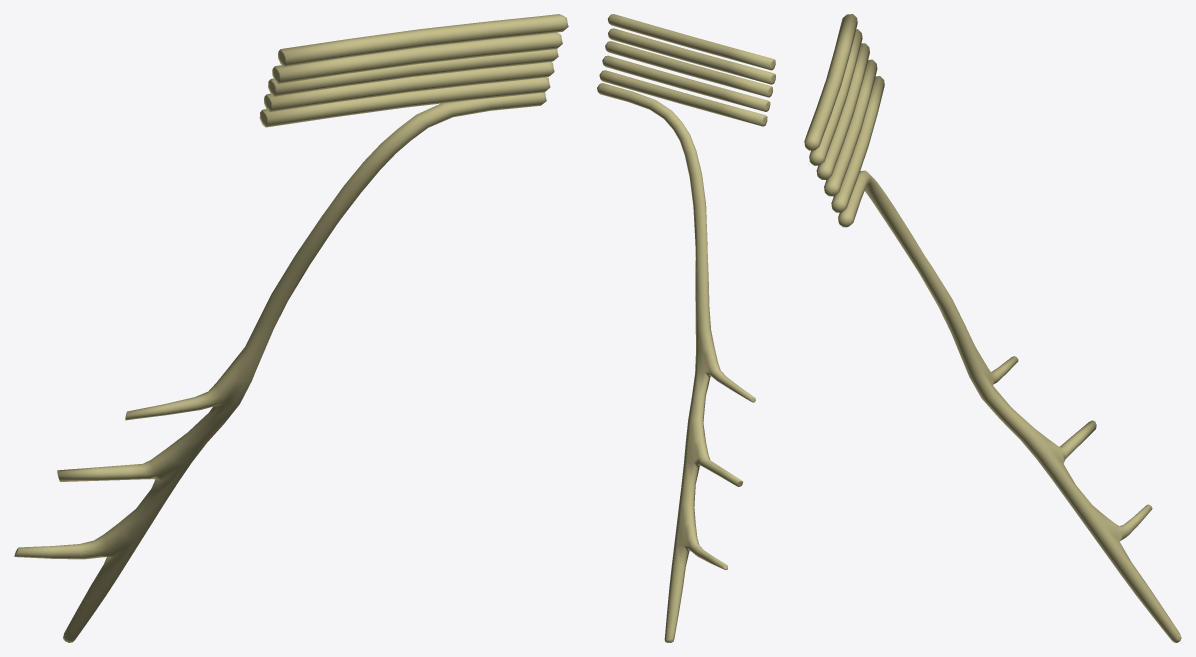
The model's file is Nerves_L8.FBX.
3 views of the same model, side by side, from view 1: azimuth 30°, elevation 25°; view 2: azimuth 150°, elevation 25°; view 3: azimuth 270°, elevation 25° (orthographic). The views are drawn at different scales.
Parts seen in each view (by area): view 1: Nerves_L8; view 2: Nerves_L8; view 3: Nerves_L8.
Part boxes in pixels (x1,y1,x2,y2): Nerves_L8: (14, 14, 568, 642); Nerves_L8: (597, 14, 775, 642); Nerves_L8: (804, 14, 1181, 642).
Size of the model in its own units: 0.0107 by 0.0202 by 0.0108.
